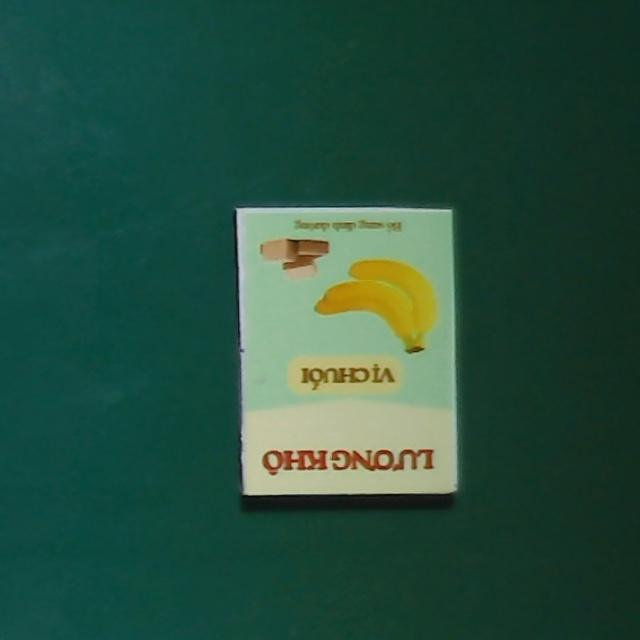chuoi: (235, 203, 458, 501)
